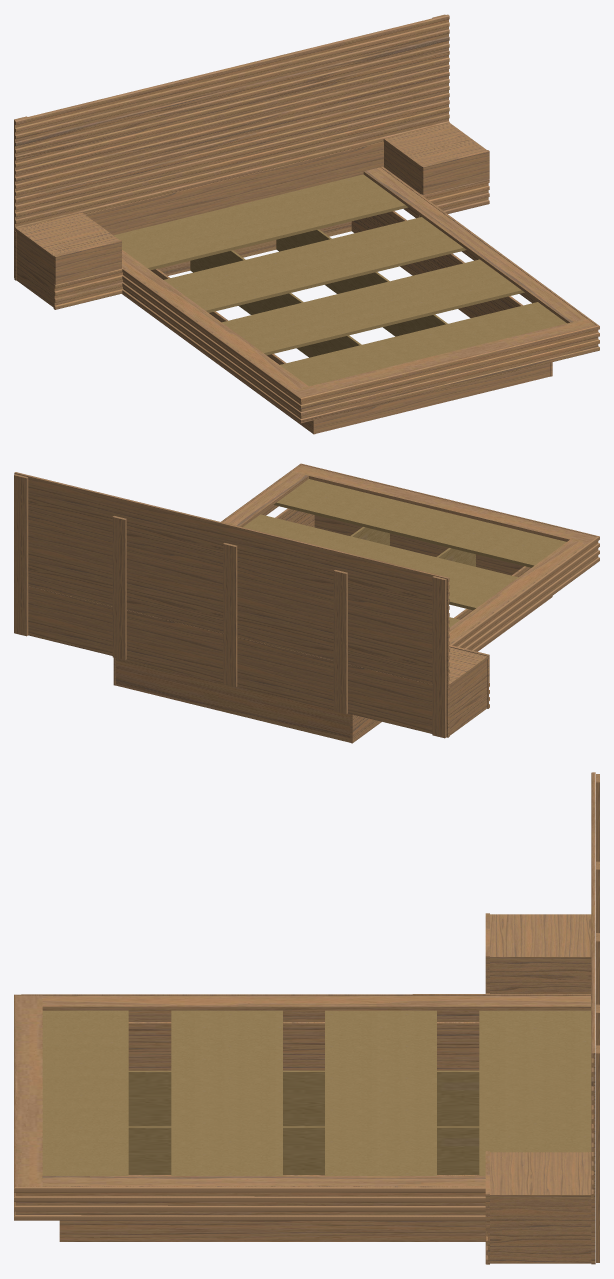
Rendered from Cama.gltf.
3 renders of one model, top to bottom at view 1: azimuth 30°, elevation 25°; view 2: azimuth 150°, elevation 25°; view 3: azimuth 270°, elevation 25°, orthographic. The views are drawn at different scales.
Parts seen in each view (by area): view 1: Box034, Box061, Box084, Box085, Box086, Box083, Box092, Box091, Box053, Box088; view 2: Box034, Box083, Box088, Box084, Box061, Box030, Box026, Box027, Box029, Box028, Box091, Box092; view 3: Box034, Box084, Box085, Box086, Box083, Box061, Box092, Box091, Box026.
Part boxes in pixels (bbox=[...]): Box034: bbox=[14, 14, 598, 434]; Box061: bbox=[15, 15, 599, 423]; Box084: bbox=[222, 259, 524, 355]; Box085: bbox=[164, 217, 466, 312]; Box086: bbox=[113, 174, 408, 270]; Box083: bbox=[280, 302, 566, 386]; Box092: bbox=[190, 250, 361, 357]; Box091: bbox=[276, 229, 447, 336]; Box053: bbox=[15, 121, 449, 230]; Box088: bbox=[158, 221, 351, 275]; Box034: bbox=[14, 464, 598, 743]; Box083: bbox=[273, 479, 566, 567]; Box088: bbox=[116, 658, 350, 742]; Box084: bbox=[243, 514, 517, 610]; Box061: bbox=[15, 463, 599, 707]; Box030: bbox=[432, 576, 446, 738]; Box026: bbox=[14, 474, 28, 636]; Box027: bbox=[112, 516, 126, 660]; Box029: bbox=[333, 570, 347, 714]; Box028: bbox=[223, 543, 237, 687]; Box091: bbox=[350, 527, 389, 545]; Box092: bbox=[436, 548, 475, 566]; Box034: bbox=[15, 772, 595, 1264]; Box084: bbox=[171, 1010, 282, 1175]; Box085: bbox=[325, 1010, 436, 1175]; Box086: bbox=[479, 1000, 591, 1175]; Box083: bbox=[42, 1010, 128, 1175]; Box061: bbox=[14, 772, 593, 1264]; Box092: bbox=[128, 1070, 479, 1126]; Box091: bbox=[128, 1126, 479, 1174]; Box026: bbox=[596, 1045, 599, 1262].
Bounding box in the file's own units: 2.28 × 0.9551 × 2.01.
4 materials, 4 textured.
